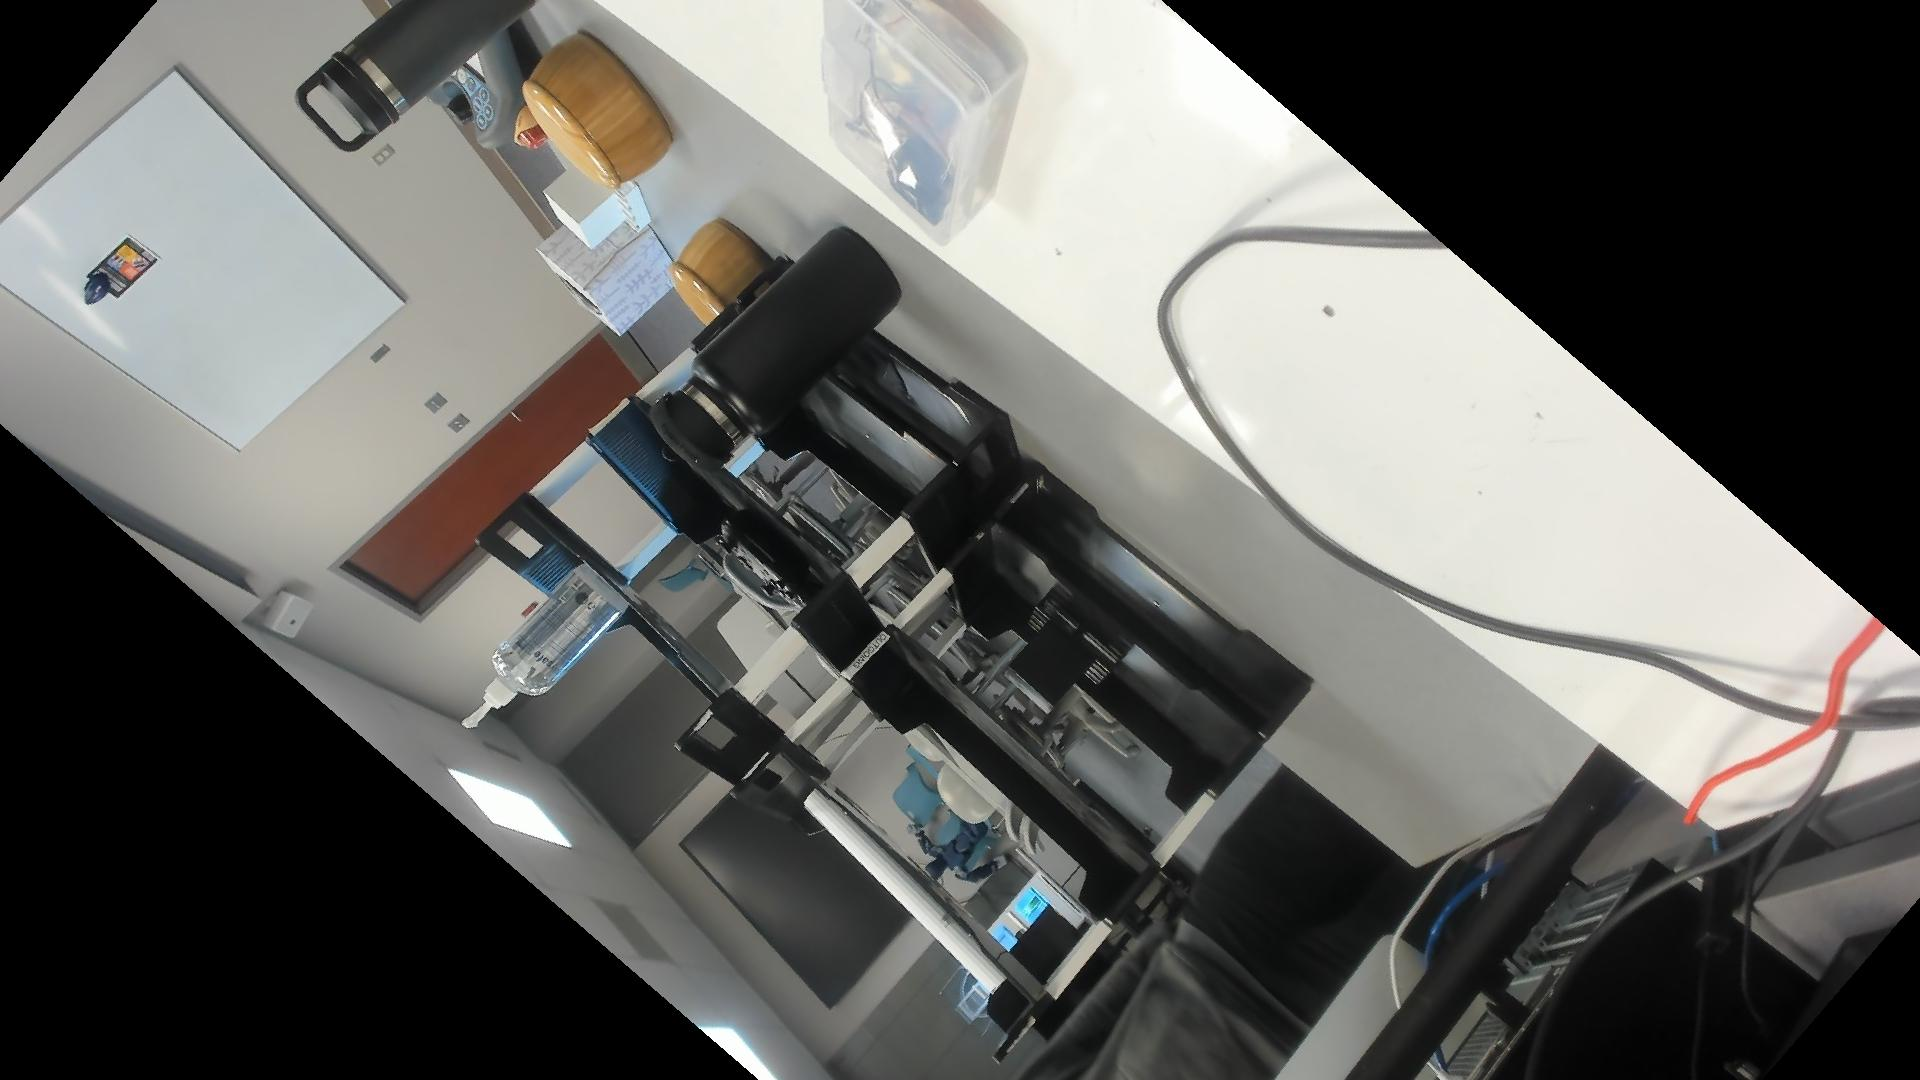black pallet: (998, 578, 1139, 721)
white pallet: (541, 169, 655, 253)
